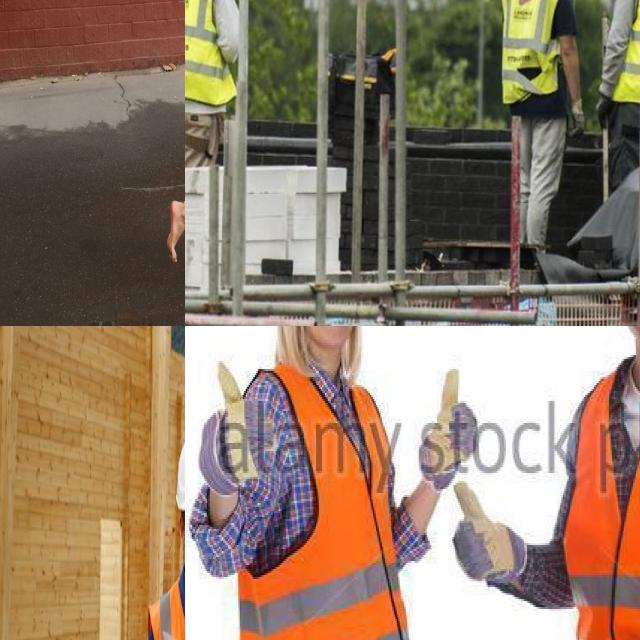Barefoots: (167, 200, 183, 263)
face_nomask: (287, 326, 365, 347)
hand_glove: (188, 365, 280, 493), (413, 357, 481, 491), (451, 483, 528, 599)
head_helmet: (175, 430, 185, 512)
person: (202, 326, 458, 640), (525, 326, 640, 640), (503, 0, 585, 268), (185, 0, 235, 180), (601, 0, 640, 196), (150, 428, 185, 640)
vest: (232, 371, 441, 640), (558, 349, 640, 640), (498, 0, 572, 100), (185, 0, 239, 106), (616, 0, 640, 105)
